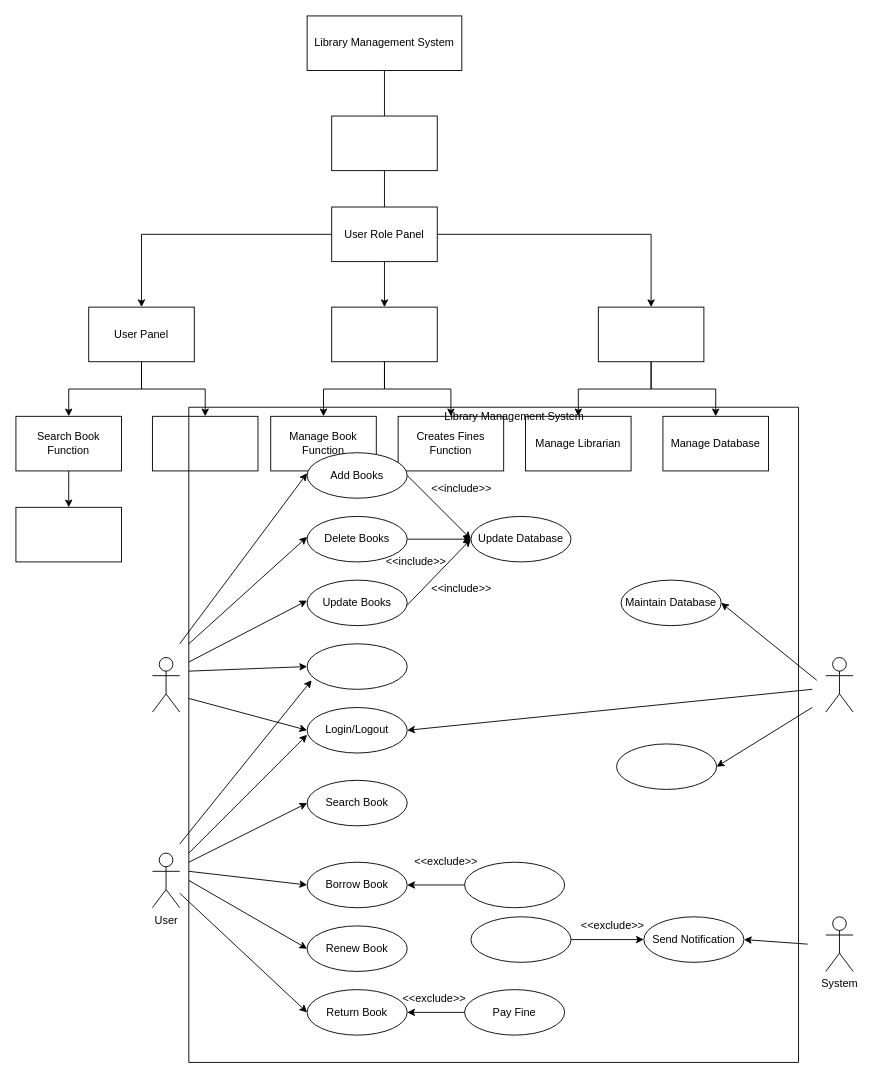
This 887x1079 diagram has some shape labels left out. The shapes that lost their labels are listed below. From the top down, each one's centre as x and y in pixels, then its label:
At [384,143]: "Login Panel".
At [384,334]: "Librarian Panel".
At [650,334]: "Administrator Panel".
At [205,443]: "Pay Fines Function".
At [68,534]: "Borrow, Return, Renew Books function".
At [166,684]: "Librarian".
At [356,666]: "Register/Update account".
At [839,684]: "Administrator".
At [666,766]: "Create Librarian Account".
At [514,884]: "Check Availability".
At [520,939]: "Overdue Notification".
